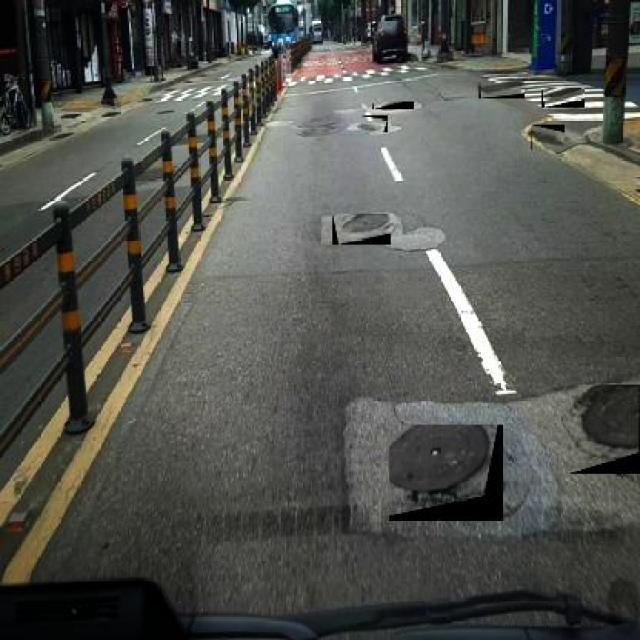Manhole: (390, 424, 504, 520), (569, 384, 640, 474), (332, 213, 392, 244), (530, 125, 564, 150), (542, 88, 584, 108), (478, 80, 524, 98), (360, 116, 388, 132), (372, 102, 414, 110)
